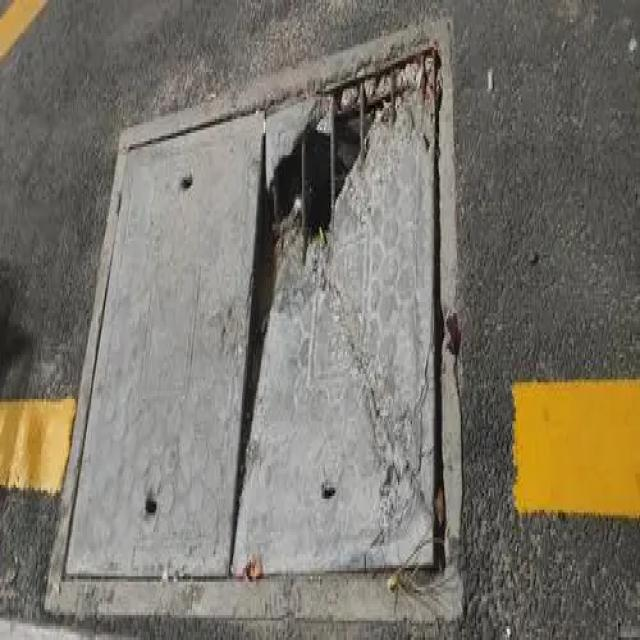manhole: (46, 20, 461, 620)
